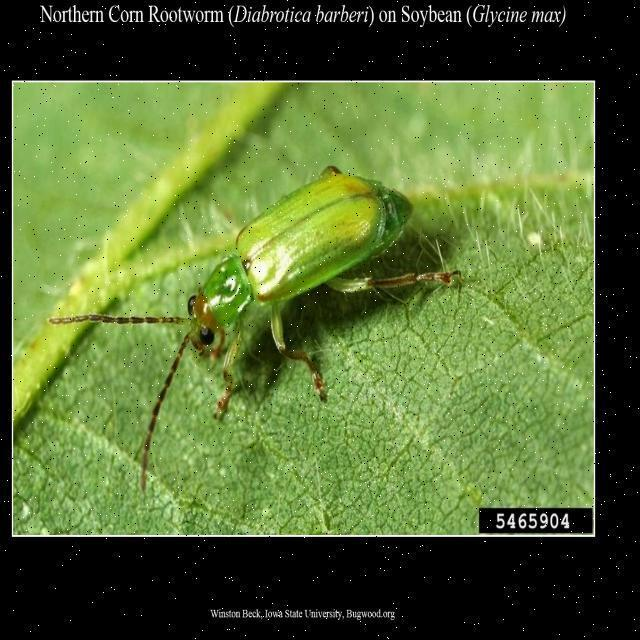trips: (48, 162, 461, 492)
